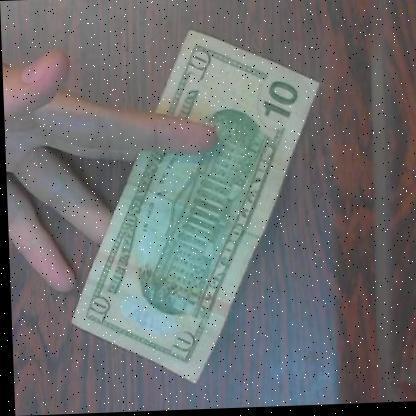ten-back: (58, 23, 330, 392)
